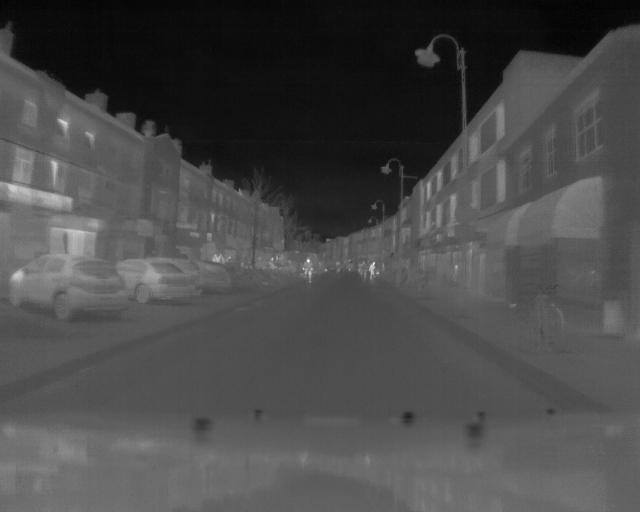car: (6, 253, 129, 322), (106, 258, 200, 307), (167, 261, 236, 300)
person: (303, 258, 312, 289), (367, 259, 377, 283)
